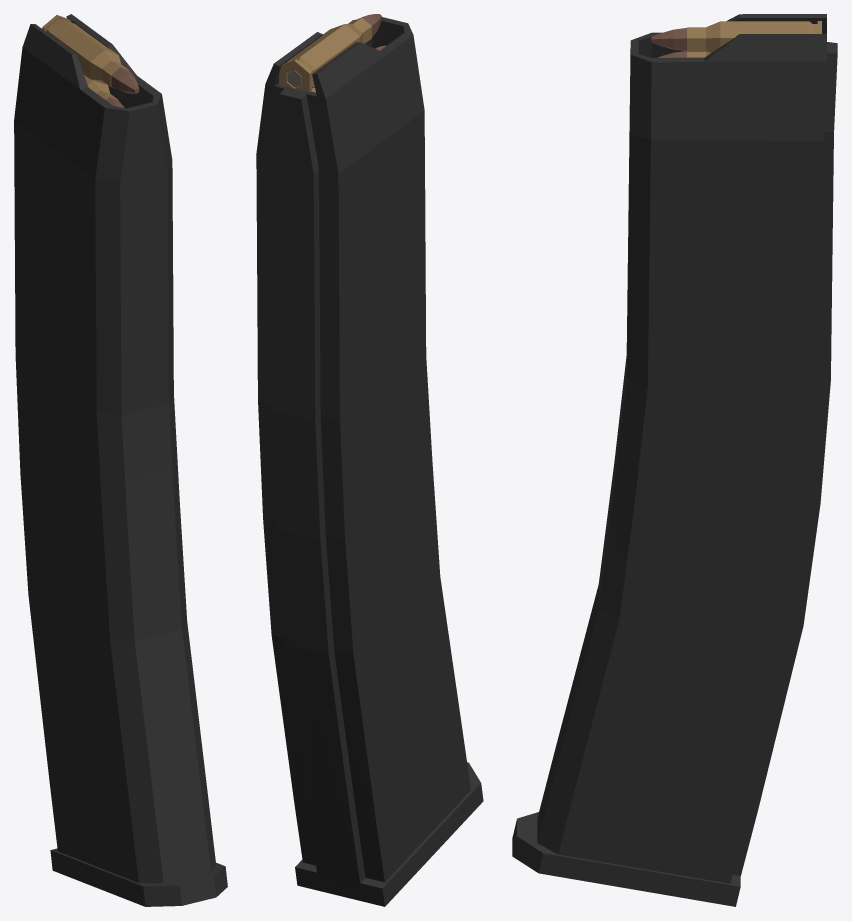
Rendered from SM_MP7_Magazine.fbx.
The picture shows the model from 3 angles, left to right: view 1: azimuth 30°, elevation 25°; view 2: azimuth 150°, elevation 25°; view 3: azimuth 270°, elevation 25°; orthographic projection. The views are drawn at different scales.
Visible parts, largest first — view 1: SM_MP7_Magazine; view 2: SM_MP7_Magazine; view 3: SM_MP7_Magazine.
Part boxes in pixels (x1,y1,x2,y2): SM_MP7_Magazine: (14, 14, 227, 906); SM_MP7_Magazine: (256, 14, 483, 906); SM_MP7_Magazine: (512, 14, 837, 906).
Size of the model in its own units: 2.18 by 20.64 by 7.03.
